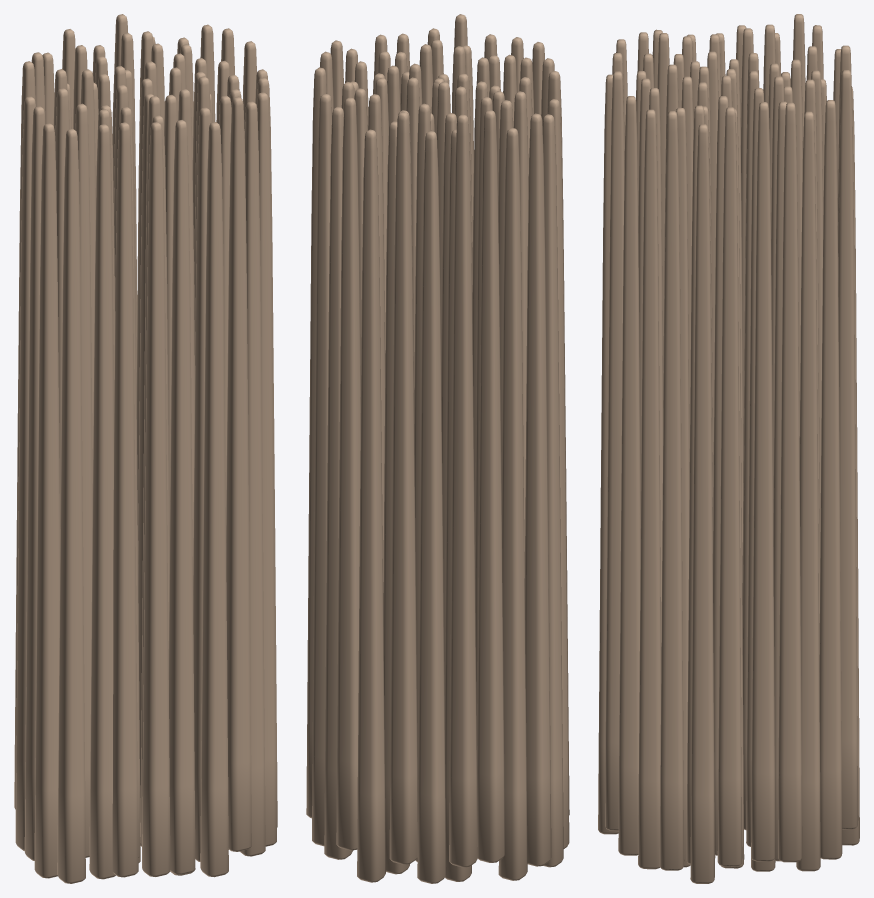
The model's file is CHOPSTICKS_bundle_t1.glb.
The picture shows the model from 3 angles, left to right: view 1: azimuth 30°, elevation 25°; view 2: azimuth 150°, elevation 25°; view 3: azimuth 270°, elevation 25°; orthographic projection.
Parts seen in each view (by area): view 1: ChopsticksBundle; view 2: ChopsticksBundle; view 3: ChopsticksBundle.
Part boxes in pixels (box(x1,y1,x2,y2)): ChopsticksBundle: box(14, 14, 277, 883); ChopsticksBundle: box(306, 14, 569, 883); ChopsticksBundle: box(598, 14, 859, 883).
Bounding box in the file's own units: 0.0764 × 0.2498 × 0.0754.
